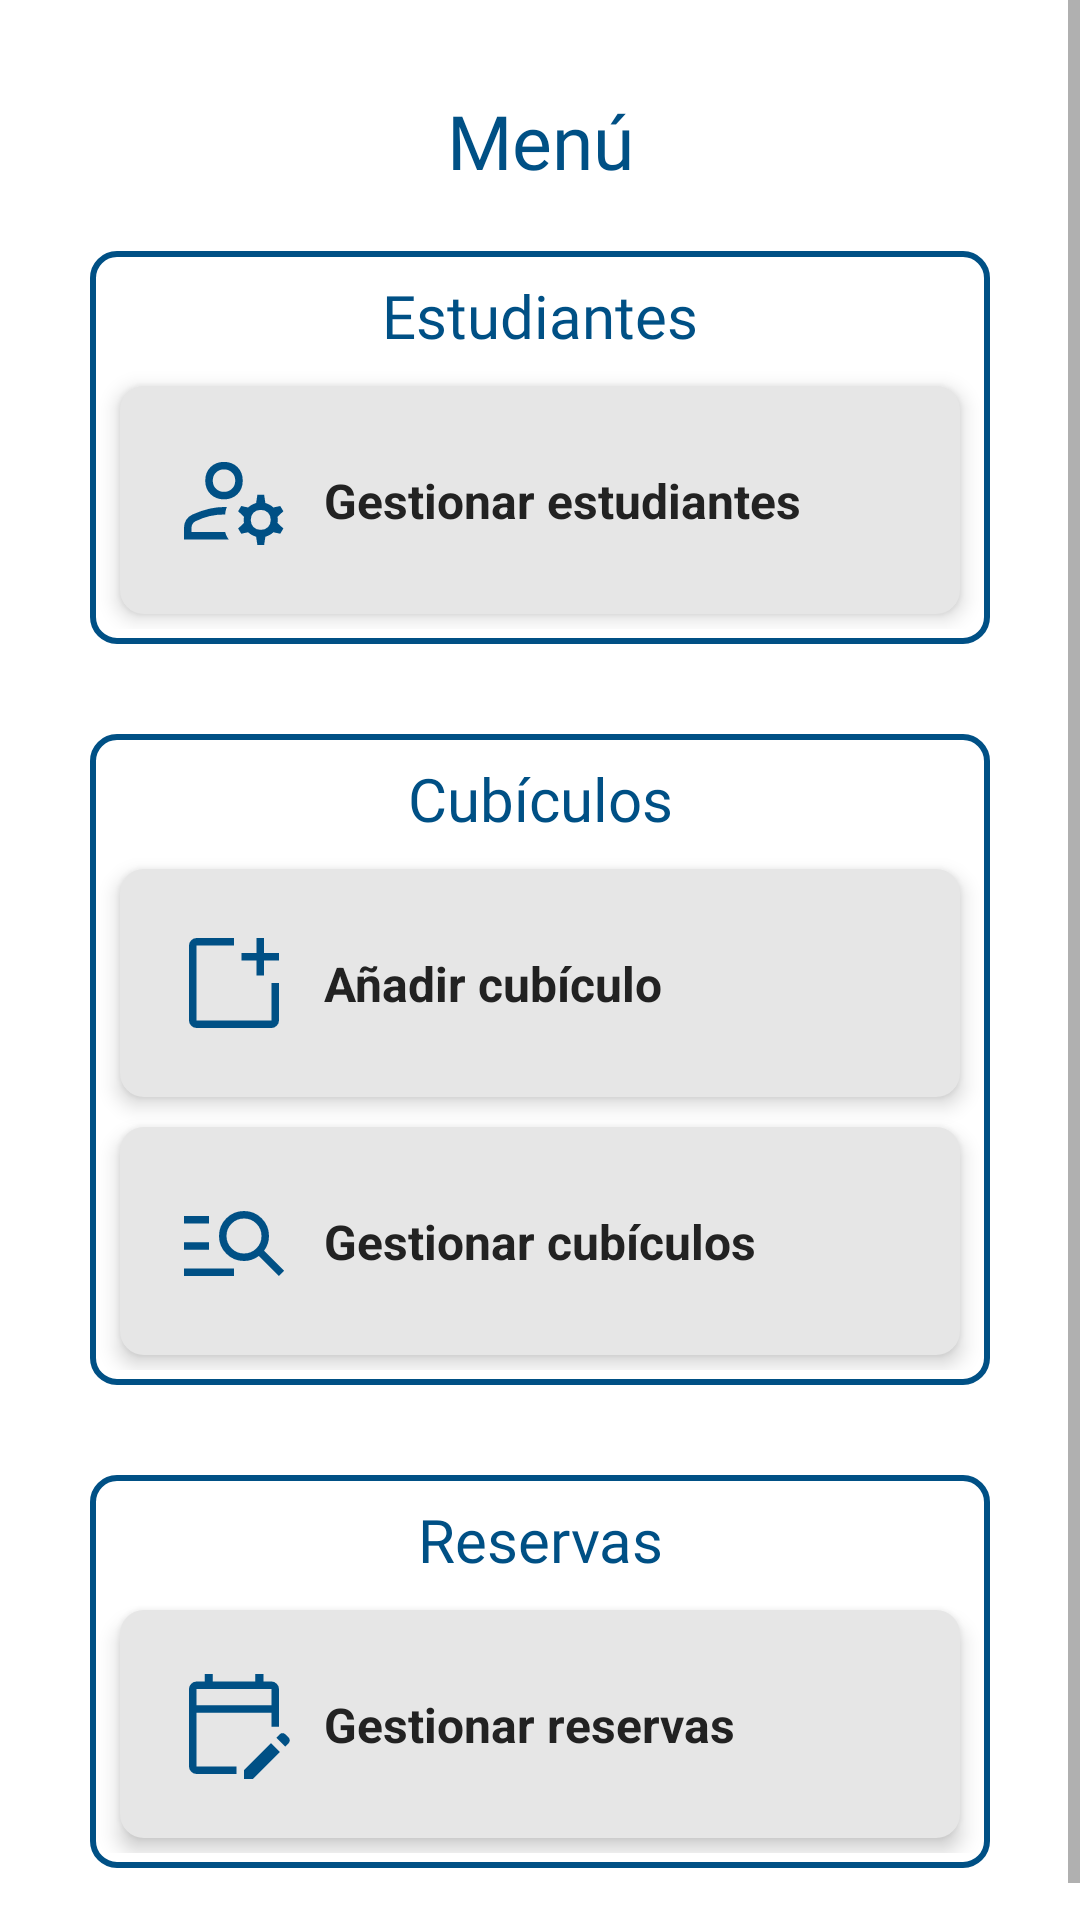

Where to tap for icons on this 1080px×1920px app screen, as point (x, y):
add room: point (234, 983)
edit booking: point (239, 1726)
manage people: point (234, 503)
manage rooms: point (234, 1243)
